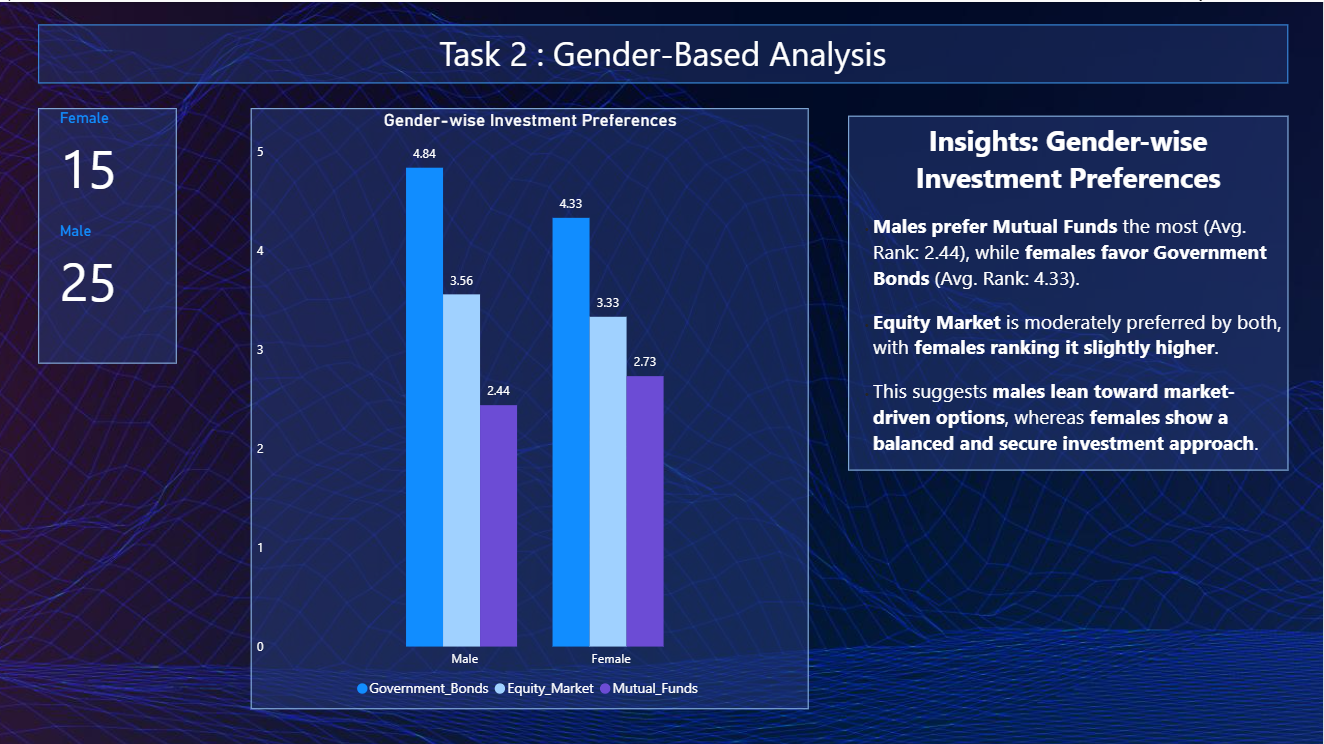

What the dashboard file says about the page in this screenshot:
{"tool":"powerbi","page":{"name":"Task 2","canvas":[1280,720],"ordinal":1},"visuals":[{"type":"clusteredColumnChart","title":"Gender-wise Investment Preferences","fields":{"Y":["Avg(Data_set 2.Government_Bonds)","Avg(Data_set 2.Equity_Market)","Avg(Data_set 2.Mutual_Funds)"],"Category":["Data_set 2.gender"]},"box":[244.9,102.5,538.1,580.3],"z":0},{"type":"multiRowCard","fields":{"Values":["Data_set 2.gender","CountNonNull(Data_set 2.age)"]},"box":[39.8,102.5,133.9,246.1],"z":1000},{"type":"textbox","box":[821.6,109.8,424.7,342.6],"z":2000},{"type":"textbox","box":[39.8,21.7,1206.4,56.7],"z":3000}]}

Visuals, with their boxes in screenshot pixels (x1, y1, x2, y2), scaled from the page's 1280x720 canvas onto the 1324x744 screenshot:
"Gender-wise Investment Preferences" clusteredColumnChart: region(253, 106, 810, 706)
multiRowCard - Data_set 2.gender x CountNonNull(Data_set 2.age): region(41, 106, 180, 360)
textbox: region(850, 113, 1289, 467)
textbox: region(41, 22, 1289, 81)
